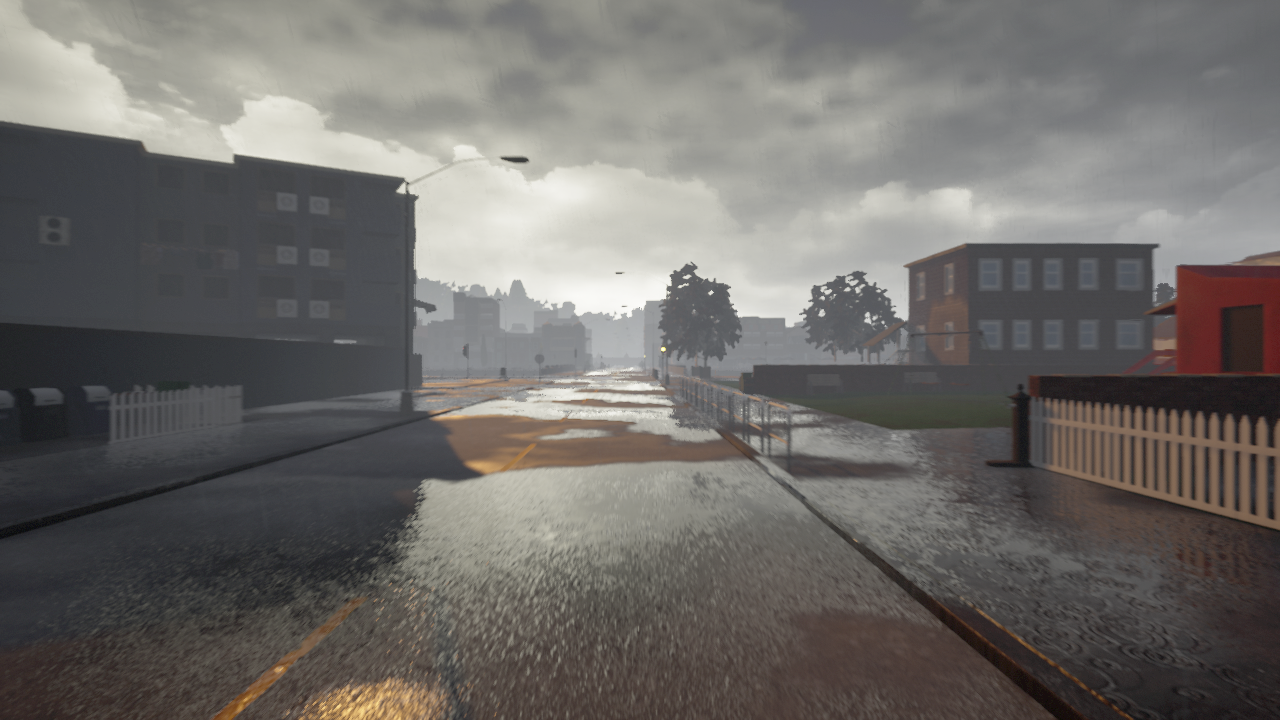yellow: (660, 343, 666, 355)
